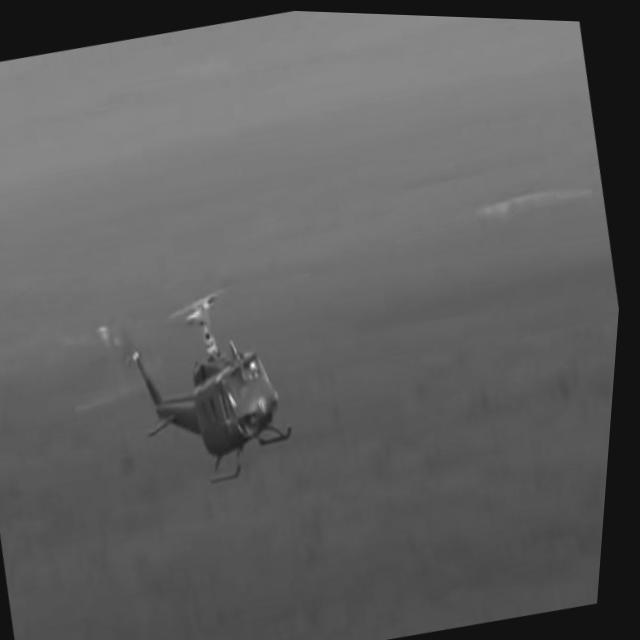helikopter: (99, 266, 332, 523)
